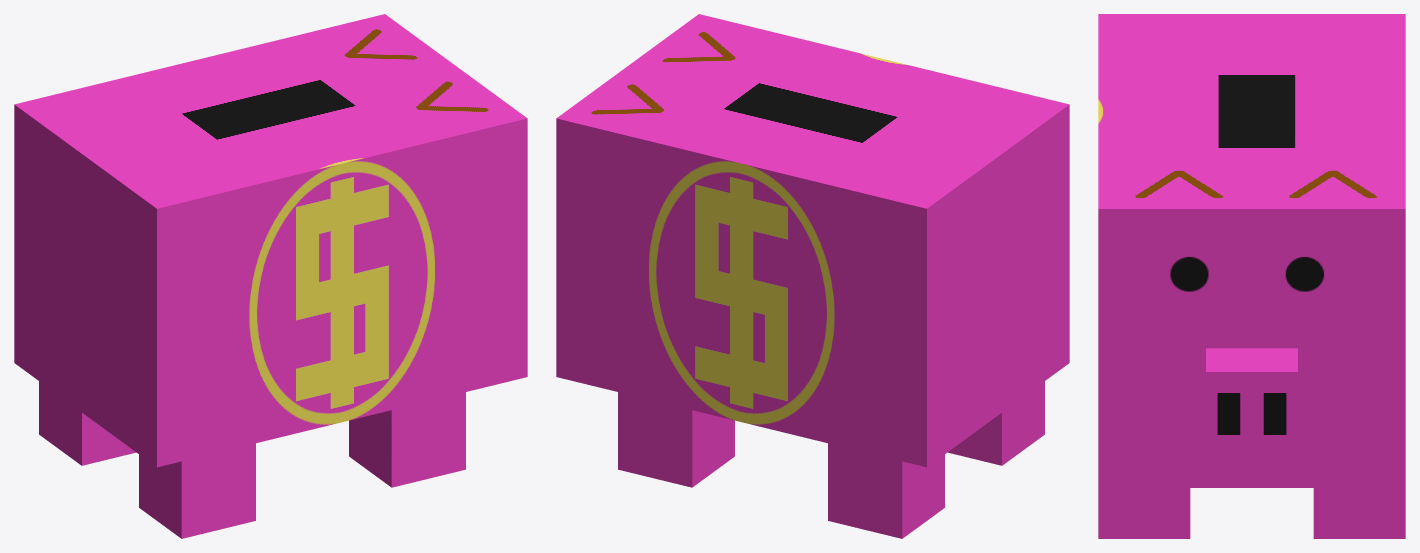
Rendered from piggybank.fbx.
The picture shows the model from 3 angles, left to right: view 1: azimuth 30°, elevation 25°; view 2: azimuth 150°, elevation 25°; view 3: azimuth 270°, elevation 25°; orthographic projection. The views are drawn at different scales.
Visible parts, largest first — view 1: Cube; view 2: Cube; view 3: Cube.
Boxes of the visible parts, x1=… form: Cube: x1=14, y1=14, x2=527, y2=538; Cube: x1=556, y1=14, x2=1069, y2=538; Cube: x1=1098, y1=14, x2=1405, y2=538.
Size of the model in its own units: 336 by 260 by 200.
Materials: 1 (1 with a texture image).
